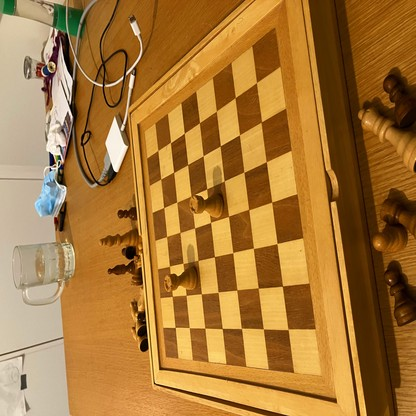bishop_black: (109, 262, 138, 276)
king_white: (99, 230, 137, 245)
pawn_black: (386, 268, 416, 324), (384, 73, 416, 120), (118, 209, 139, 220)
pawn_white: (373, 225, 409, 255)
queen_white: (358, 107, 416, 173)
rock_black: (381, 200, 416, 235)
rock_white: (190, 193, 223, 218), (165, 266, 196, 292)
